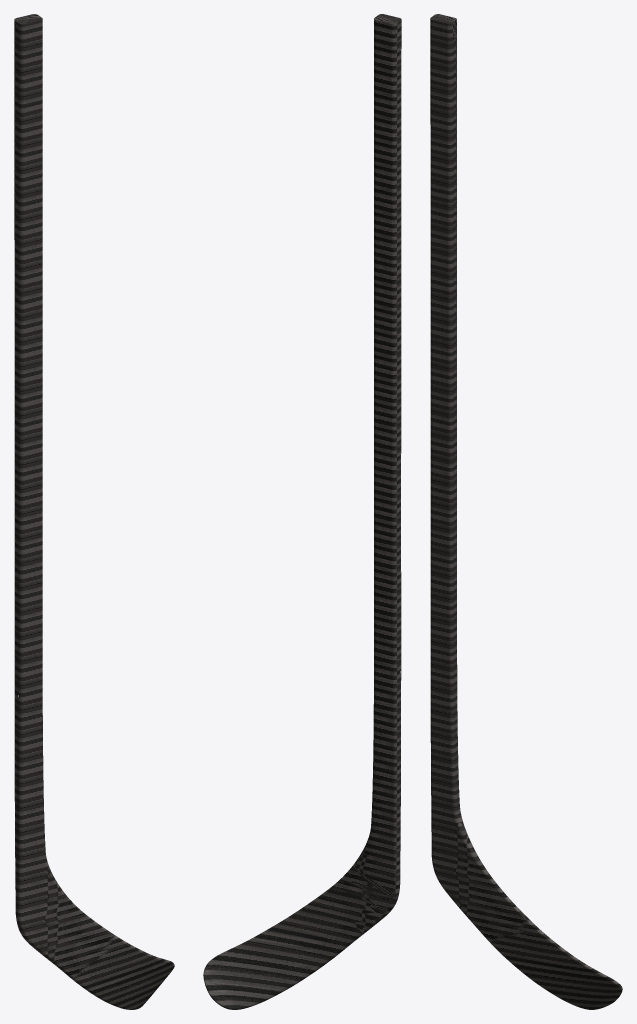
3 renders of one model, left to right at view 1: azimuth 30°, elevation 25°; view 2: azimuth 150°, elevation 25°; view 3: azimuth 330°, elevation 25°, orthographic. The views are drawn at different scales.
Parts seen in each view (by area): view 1: geometry_0; view 2: geometry_0; view 3: geometry_0.
Boxes of the visible parts, <box> form: geometry_0: <box>14,14,174,1009</box>; geometry_0: <box>203,14,401,1009</box>; geometry_0: <box>430,14,622,1009</box>.
Bounding box in the file's own units: 229 × 1269 × 71.36.
1 material, 1 textured.
